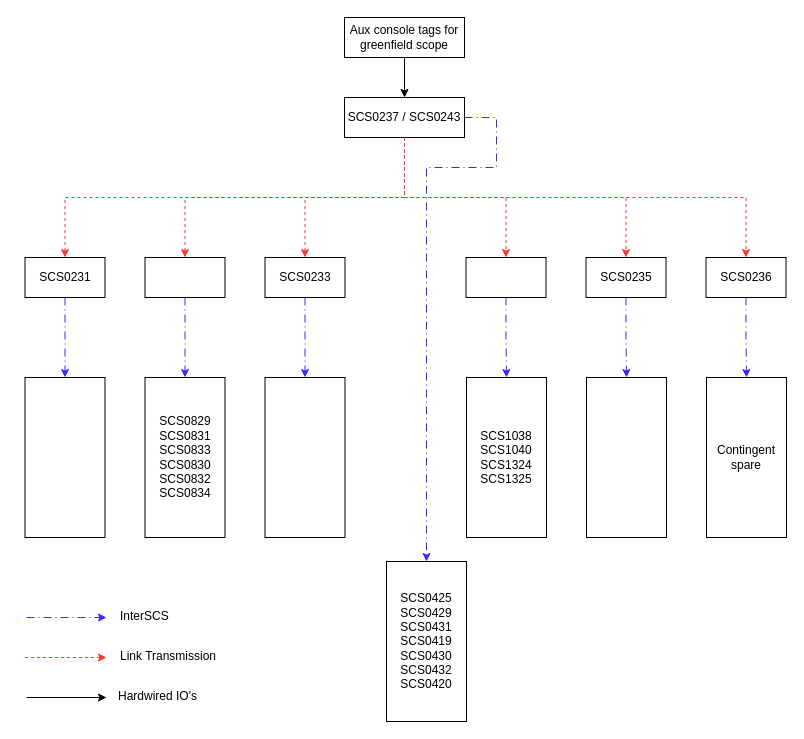
Image size: 804x739. Some labels were removed from this diagram. Here are the shapes that lost their labels. From the top down, the centre of each, then its label:
pixel 184 277: SCS0232
pixel 505 277: SCS0234
pixel 64 457: SCS0627 SCS0629 SCS0631 SCS0633 SCS0628 SCS0630 SCS0632 SCS0634
pixel 304 457: SCS1031 SCS1033 SCS1035 SCS1037 SCS1039 SCS1032 SCS1034 SCS1036
pixel 626 457: SCS1423 SCS1425 SCS1424 SCS1426
